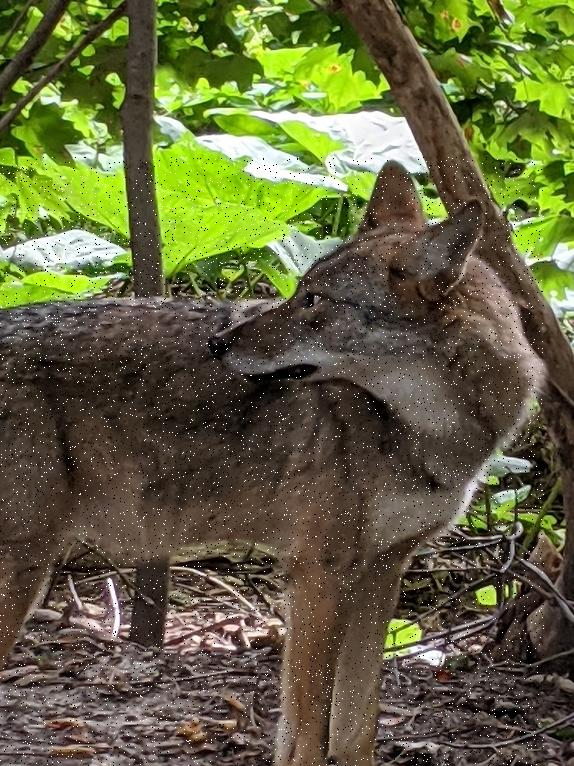Coyote: (0, 157, 544, 766)
